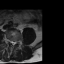CCS_normal: (12, 40, 14, 47)
LFS_normal: (16, 38, 18, 46)
LLS_normal: (14, 39, 16, 46)
RFS_normal: (8, 38, 10, 45)
RLS_normal: (10, 39, 12, 46)
